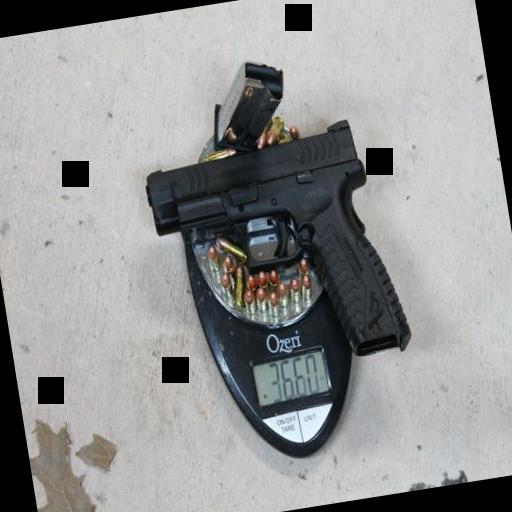Handgun: (137, 113, 411, 388)
